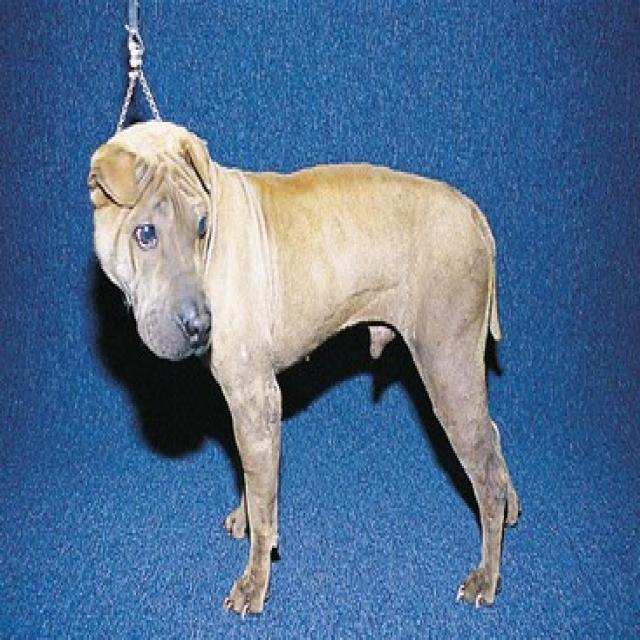qua man cho: (411, 306, 514, 513)
